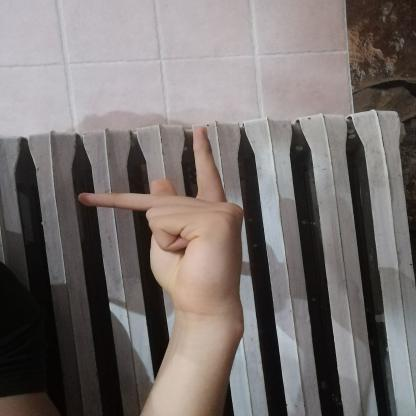DHAA: (63, 113, 255, 322)
